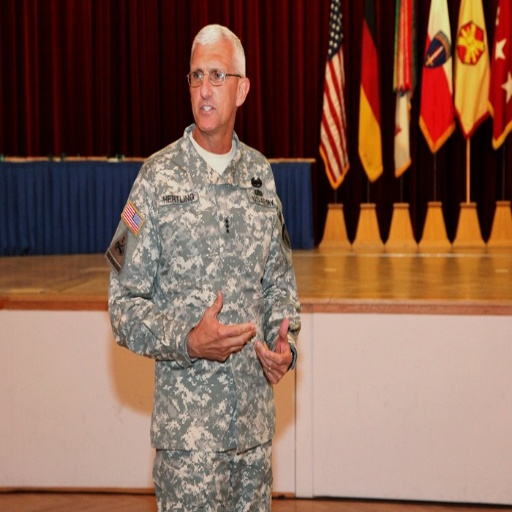hand: (191, 287, 254, 362), (254, 322, 292, 391)
